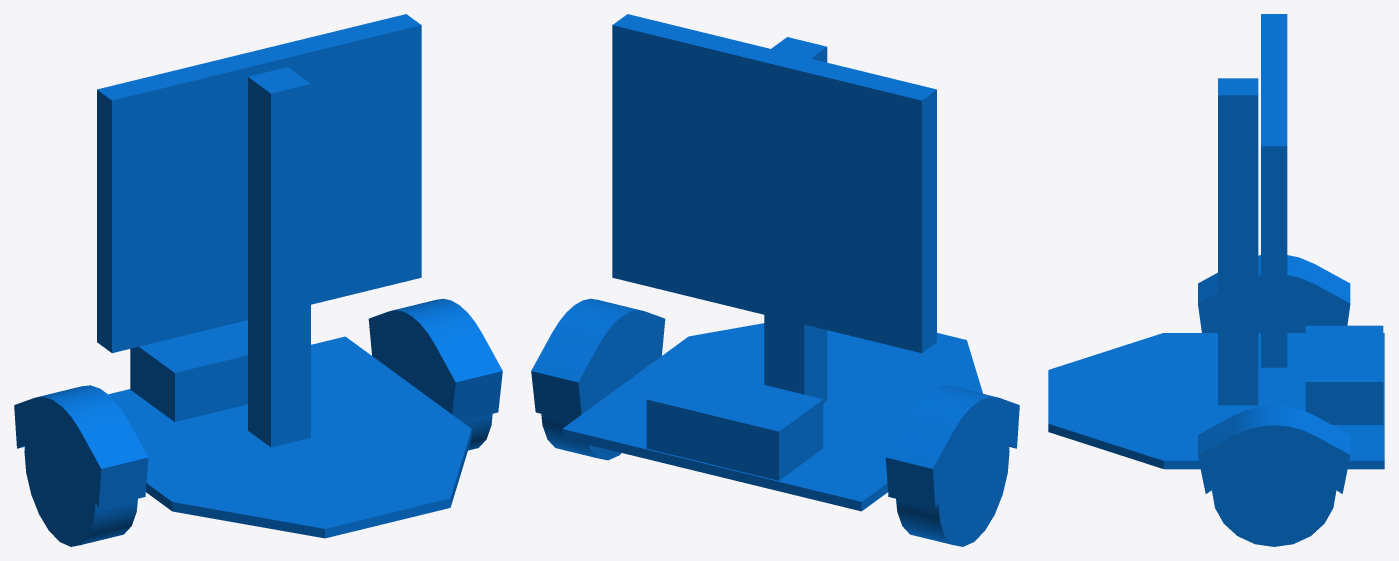
File: ElectronicConstructionSign.fbx
The picture shows the model from 3 angles, left to right: view 1: azimuth 30°, elevation 25°; view 2: azimuth 150°, elevation 25°; view 3: azimuth 270°, elevation 25°; orthographic projection. The views are drawn at different scales.
Visible parts, largest first — view 1: pCube78; view 2: pCube78; view 3: pCube78.
Boxes of the visible parts, x1,y1,x2,y2 form: pCube78: [14, 14, 502, 546]; pCube78: [531, 14, 1019, 546]; pCube78: [1048, 14, 1384, 546].
Bounding box in the file's own units: 5.23 × 5.43 × 4.33.
